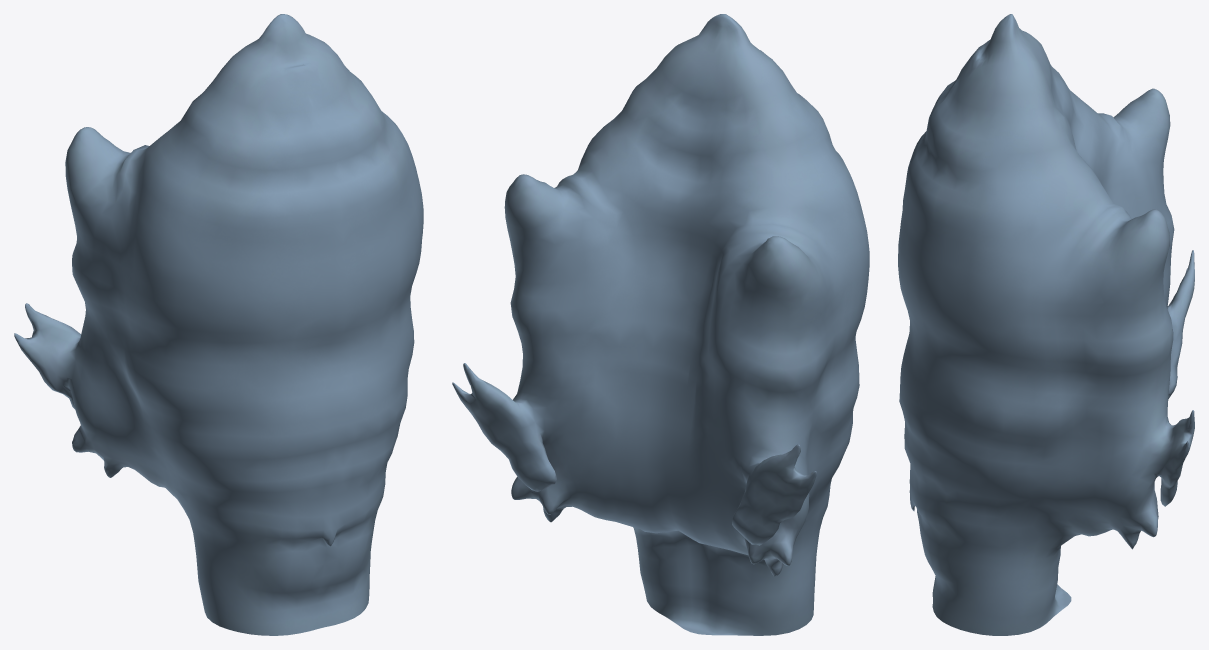
File: plant.glb
3 views of the same model, side by side, from view 1: azimuth 30°, elevation 25°; view 2: azimuth 150°, elevation 25°; view 3: azimuth 270°, elevation 25° (orthographic).
Parts seen in each view (by area): view 1: tripo_node_54f9cd33-dc8e-4645-8ee8-17d87111209a; view 2: tripo_node_54f9cd33-dc8e-4645-8ee8-17d87111209a; view 3: tripo_node_54f9cd33-dc8e-4645-8ee8-17d87111209a.
Part boxes in pixels (x1,y1,x2,y2): tripo_node_54f9cd33-dc8e-4645-8ee8-17d87111209a: (14,14,423,635); tripo_node_54f9cd33-dc8e-4645-8ee8-17d87111209a: (452,14,869,635); tripo_node_54f9cd33-dc8e-4645-8ee8-17d87111209a: (898,14,1194,635).
Size of the model in its own units: 0.6392 by 0.9995 by 0.4595.
Materials: 1 (1 with a texture image).
